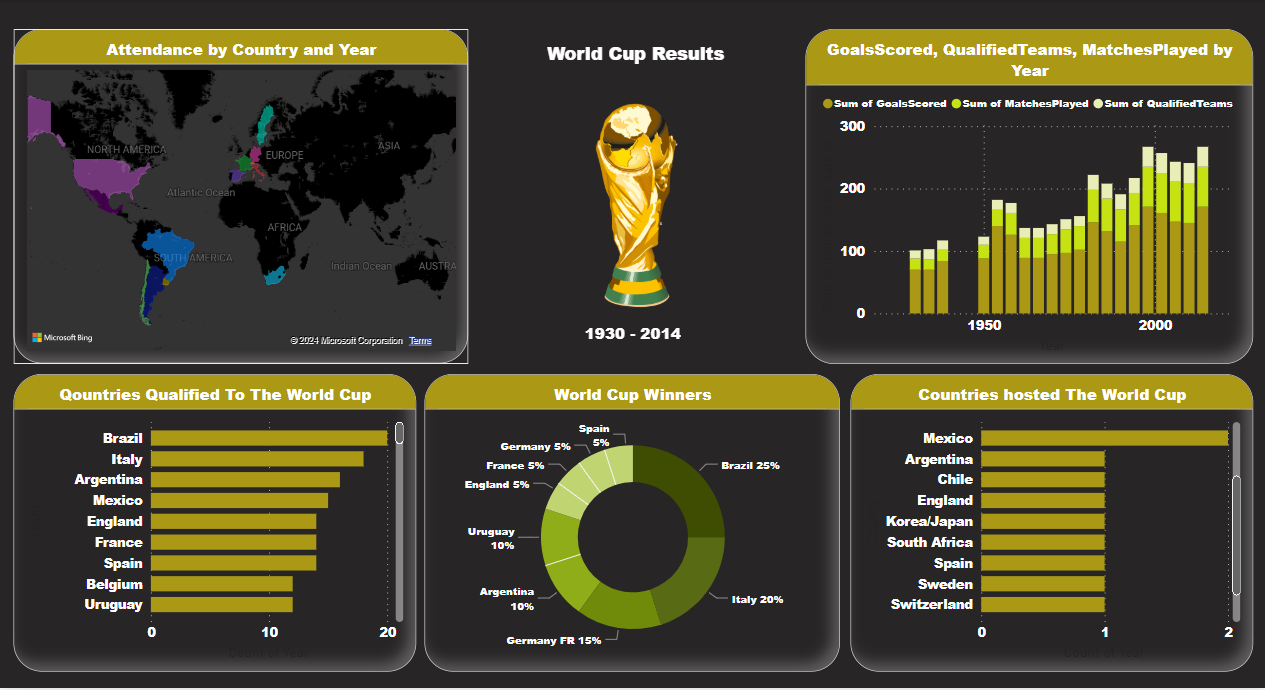

Layout of this report page (visuals, bound fields, positions):
{"tool":"powerbi","page":{"name":"Page 1","canvas":[1335,725],"ordinal":0},"visuals":[{"type":"clusteredBarChart","title":"Qountries Qualified To The World Cup","fields":{"Category":["World Cup - Tableau format.Team"],"Y":["Count(World Cup - Tableau format.Year)"]},"box":[13.8,395.6,423.8,313.4],"z":0},{"type":"columnChart","title":"GoalsScored,  QualifiedTeams, MatchesPlayed by Year","fields":{"Y":["Sum(WorldCups.GoalsScored)","Sum(WorldCups.MatchesPlayed)","Sum(WorldCups.QualifiedTeams)"],"Category":["WorldCups.Year"]},"box":[847.5,31.5,471.1,352.8],"z":1000},{"type":"filledMap","title":"Attendance by Country and Year","fields":{"Category":["WorldCups.Country"],"Series":["WorldCups.Attendance"]},"box":[14.2,31.6,478.5,352.2],"z":2000},{"type":"clusteredBarChart","title":"Countries hosted The World Cup","fields":{"Category":["WorldCups.Country"],"Y":["CountNonNull(WorldCups.Year)"]},"box":[894.8,395.6,423.8,313.4],"z":3000},{"type":"donutChart","title":"World Cup Winners","fields":{"Category":["WorldCups.Winner"],"Y":["CountNonNull(WorldCups.Year)"]},"box":[447.4,395.3,437.6,313.4],"z":4000},{"type":"image","box":[492.7,86.7,354.8,260.2],"z":5000},{"type":"textbox","box":[516.4,335.1,299.6,49.3],"z":6000},{"type":"textbox","box":[520.3,37.4,299.6,49.3],"z":7000}]}

Visuals, with their boxes in screenshot pixels (x1, y1, x2, y2), scaled from the page's 1335x725 canvas onto the 1265x690 screenshot:
"Qountries Qualified To The World Cup" clusteredBarChart: <box>13,377,415,675</box>
"GoalsScored,  QualifiedTeams, MatchesPlayed by Year" columnChart: <box>803,30,1249,366</box>
"Attendance by Country and Year" filledMap: <box>13,30,467,365</box>
"Countries hosted The World Cup" clusteredBarChart: <box>848,377,1249,675</box>
"World Cup Winners" donutChart: <box>424,376,839,674</box>
image: <box>467,83,803,330</box>
textbox: <box>489,319,773,366</box>
textbox: <box>493,36,777,83</box>
